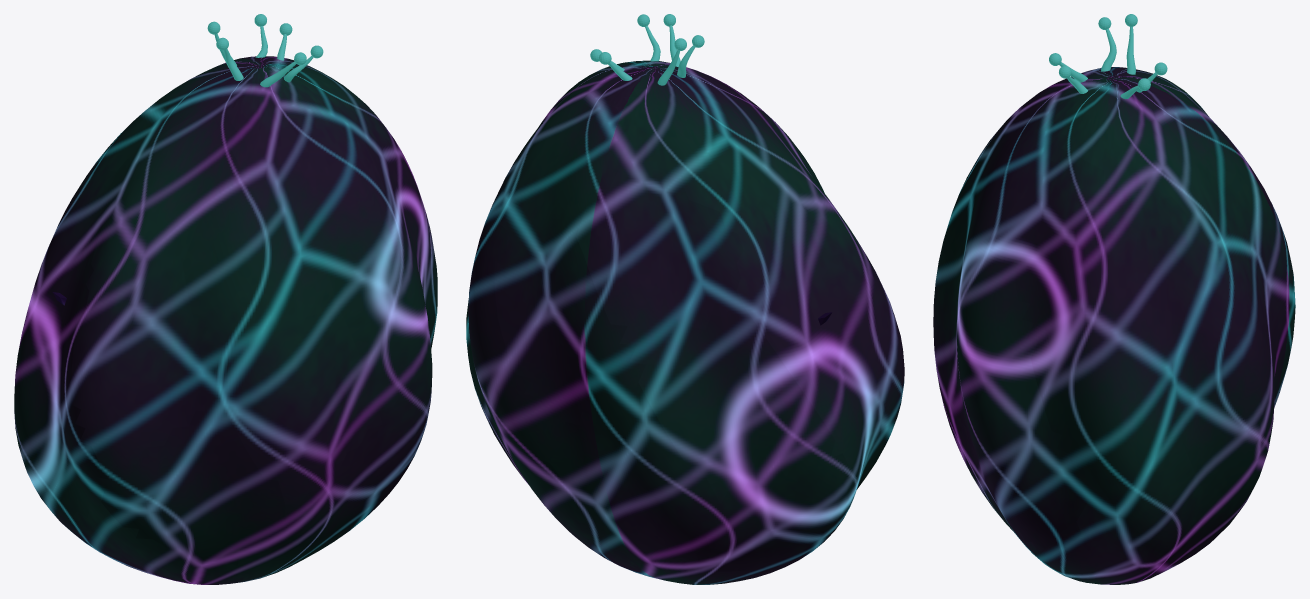
Rendered from alien_egg_c_runtime.gltf.
3 renders of one model, left to right at view 1: azimuth 30°, elevation 25°; view 2: azimuth 150°, elevation 25°; view 3: azimuth 270°, elevation 25°, orthographic.
Parts seen in each view (by area): view 1: SHARD_07, SHARD_12, SHARD_15, SHARD_20, SHARD_04, SHARD_02, SHARD_10, SHARD_17, SHARD_23, SHARD_09, SHARD_25, SHARD_01 (+5 smaller); view 2: SHARD_06, SHARD_14, SHARD_11, SHARD_09, SHARD_19, SHARD_01, SHARD_22, SHARD_03, SHARD_17, SHARD_04, SHARD_16, SHARD_24 (+5 smaller); view 3: SHARD_08, SHARD_13, SHARD_05, SHARD_18, SHARD_21, SHARD_16, SHARD_10, SHARD_00, SHARD_03, SHARD_02, SHARD_11, SHARD_15 (+7 smaller).
Boxes of the visible parts, x1=… form: SHARD_07: x1=182, y1=161, x2=340, y2=381; SHARD_12: x1=71, y1=252, x2=228, y2=479; SHARD_15: x1=219, y1=295, x2=388, y2=504; SHARD_20: x1=94, y1=397, x2=285, y2=565; SHARD_04: x1=85, y1=106, x2=237, y2=310; SHARD_02: x1=230, y1=85, x2=384, y2=249; SHARD_10: x1=329, y1=189, x2=429, y2=410; SHARD_17: x1=14, y1=327, x2=108, y2=517; SHARD_23: x1=236, y1=424, x2=399, y2=580; SHARD_09: x1=15, y1=170, x2=115, y2=380; SHARD_25: x1=69, y1=502, x2=249, y2=584; SHARD_01: x1=90, y1=59, x2=250, y2=171; SHARD_06: x1=576, y1=157, x2=743, y2=364; SHARD_14: x1=638, y1=304, x2=835, y2=503; SHARD_11: x1=494, y1=235, x2=646, y2=435; SHARD_09: x1=736, y1=199, x2=867, y2=426; SHARD_19: x1=544, y1=382, x2=720, y2=561; SHARD_01: x1=612, y1=71, x2=764, y2=233; SHARD_22: x1=696, y1=440, x2=854, y2=574; SHARD_03: x1=499, y1=100, x2=626, y2=255; SHARD_17: x1=827, y1=303, x2=904, y2=499; SHARD_04: x1=716, y1=82, x2=866, y2=282; SHARD_16: x1=468, y1=273, x2=554, y2=468; SHARD_24: x1=514, y1=458, x2=668, y2=571; SHARD_08: x1=1115, y1=188, x2=1253, y2=419; SHARD_13: x1=1030, y1=293, x2=1178, y2=502; SHARD_05: x1=1006, y1=148, x2=1135, y2=346; SHARD_18: x1=964, y1=358, x2=1087, y2=548; SHARD_21: x1=1075, y1=433, x2=1216, y2=573; SHARD_16: x1=1173, y1=309, x2=1274, y2=502; SHARD_10: x1=956, y1=213, x2=1037, y2=411; SHARD_00: x1=1061, y1=70, x2=1176, y2=201; SHARD_03: x1=1147, y1=101, x2=1259, y2=274; SHARD_02: x1=972, y1=74, x2=1084, y2=219; SHARD_11: x1=1244, y1=200, x2=1295, y2=385; SHARD_15: x1=933, y1=247, x2=967, y2=434.
Bounding box in the file's own units: 2.12 × 2.79 × 1.66.
3 materials, 2 textured.
